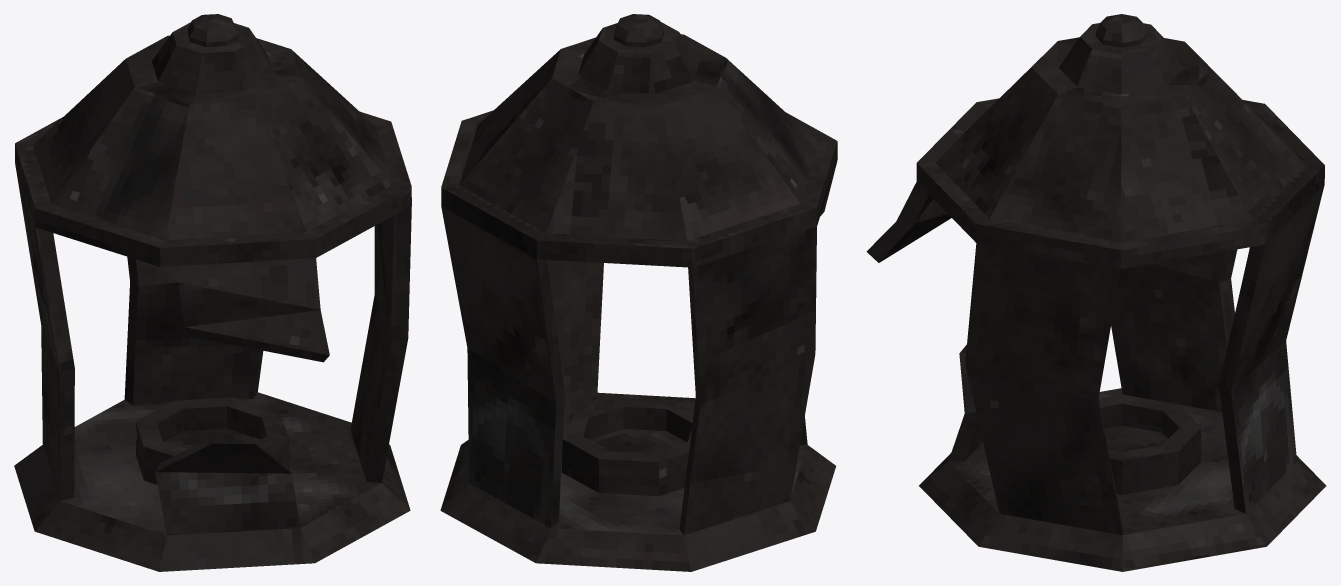
File: damagedlamp.fbx
3 renders of one model, left to right at view 1: azimuth 30°, elevation 25°; view 2: azimuth 150°, elevation 25°; view 3: azimuth 270°, elevation 25°, orthographic.
Visible parts, largest first — view 1: Damaged Lamp; view 2: Damaged Lamp; view 3: Damaged Lamp.
Boxes of the visible parts, left/top/right/bottom form: Damaged Lamp: left=14, top=14, right=411, bottom=571; Damaged Lamp: left=440, top=14, right=837, bottom=571; Damaged Lamp: left=866, top=14, right=1326, bottom=571.
Size of the model in its own units: 258 by 325 by 291.
